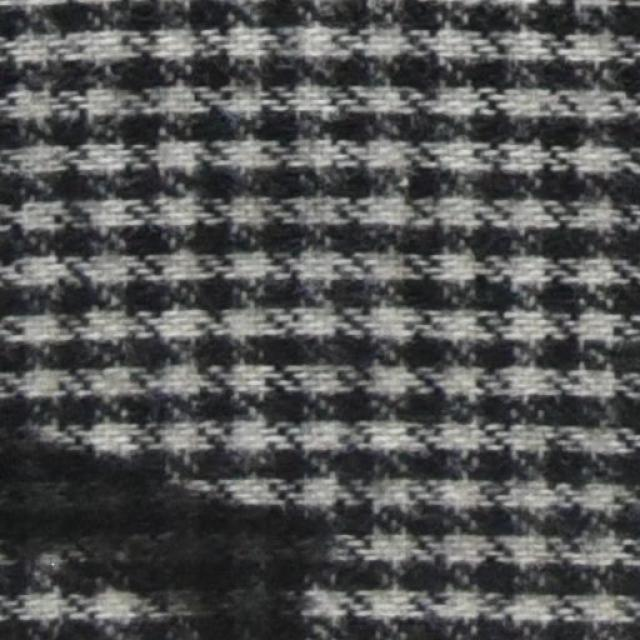Stain: (0, 372, 354, 639)
